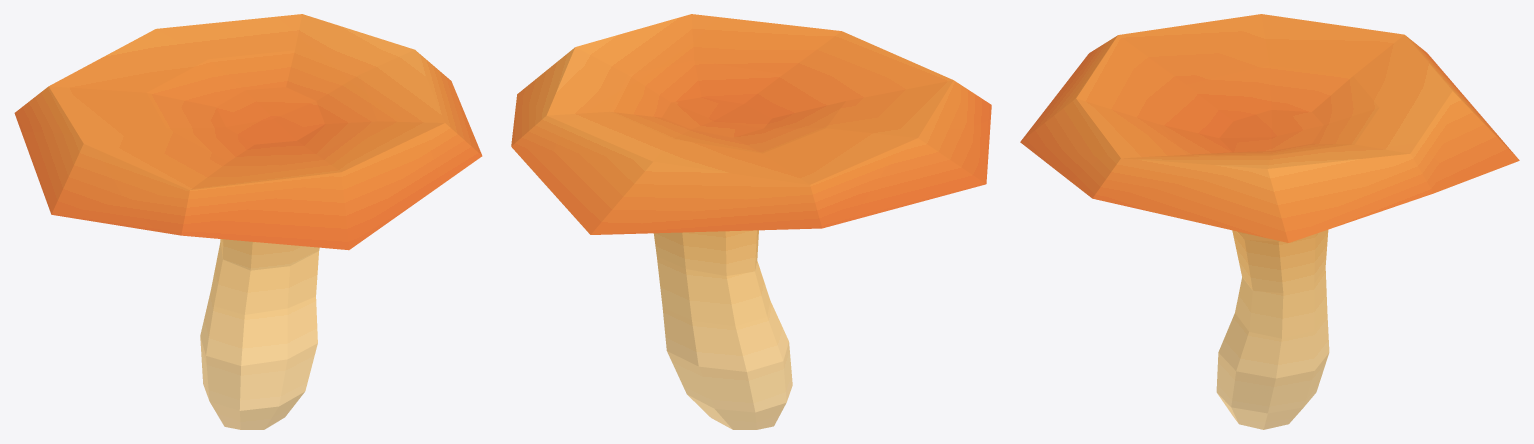
Rendered from medium_chanterelle.glb.
3 renders of one model, left to right at view 1: azimuth 30°, elevation 25°; view 2: azimuth 150°, elevation 25°; view 3: azimuth 270°, elevation 25°, orthographic.
Parts seen in each view (by area): view 1: Chanterelle_med; view 2: Chanterelle_med; view 3: Chanterelle_med.
Part boxes in pixels (<box>): Chanterelle_med: <box>14,14,482,429</box>; Chanterelle_med: <box>511,14,991,429</box>; Chanterelle_med: <box>1020,14,1519,429</box>.
Size of the model in its own units: 9.56 by 7.14 by 9.47.
Materials: 1 (1 with a texture image).
